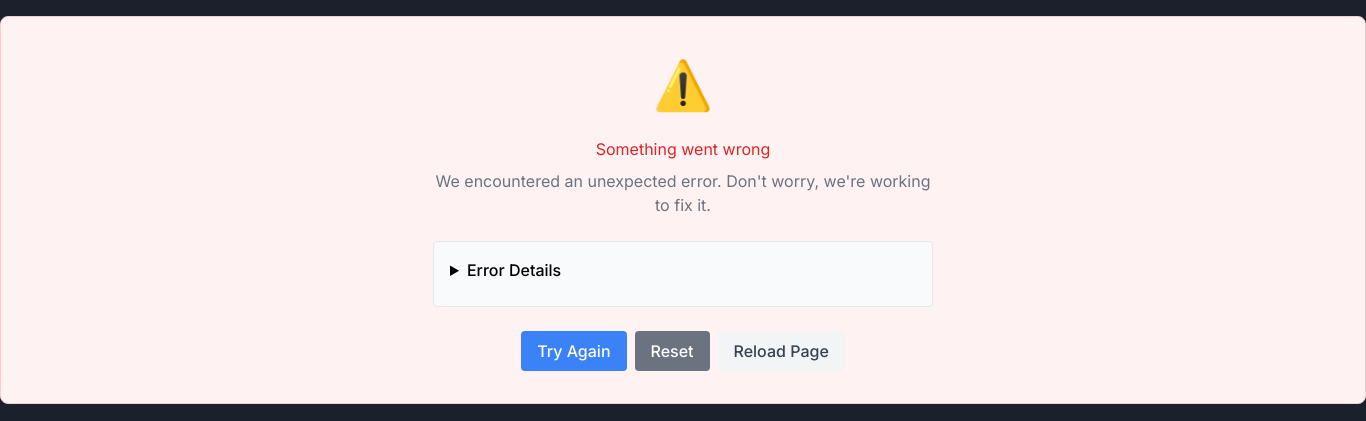
Test: ErrorBoundary › Error Recovery › should show recovering state during retry
This screenshot has width=1366, height=421.
Click the button "Try Again": (574, 351) x1=521 y1=331 x2=626 y2=371
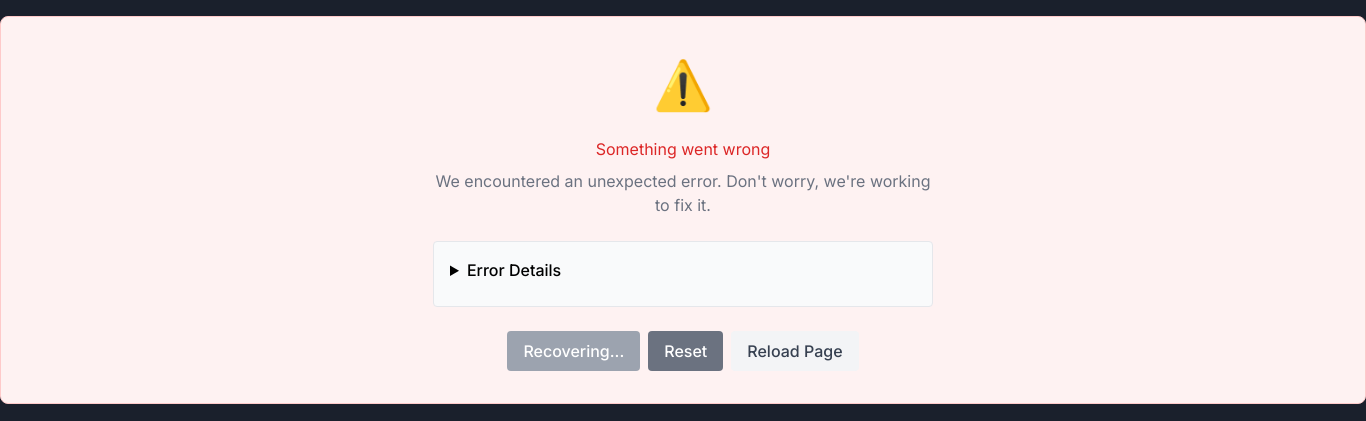
Now the button "Recovering..." is shown, box x1=507 y1=331 x2=640 y2=371
